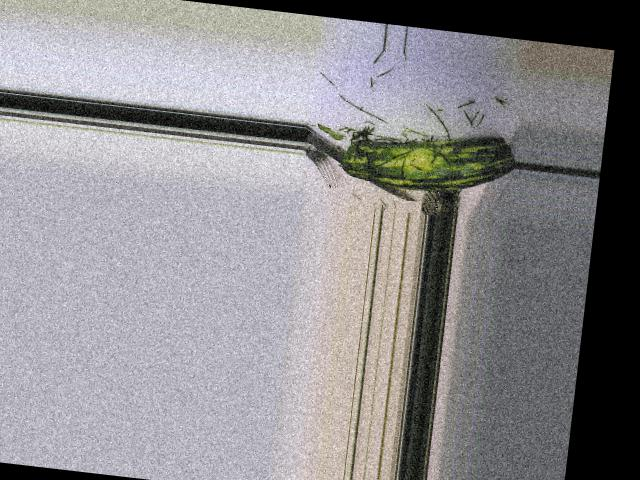cucumber: (339, 118, 517, 200)
